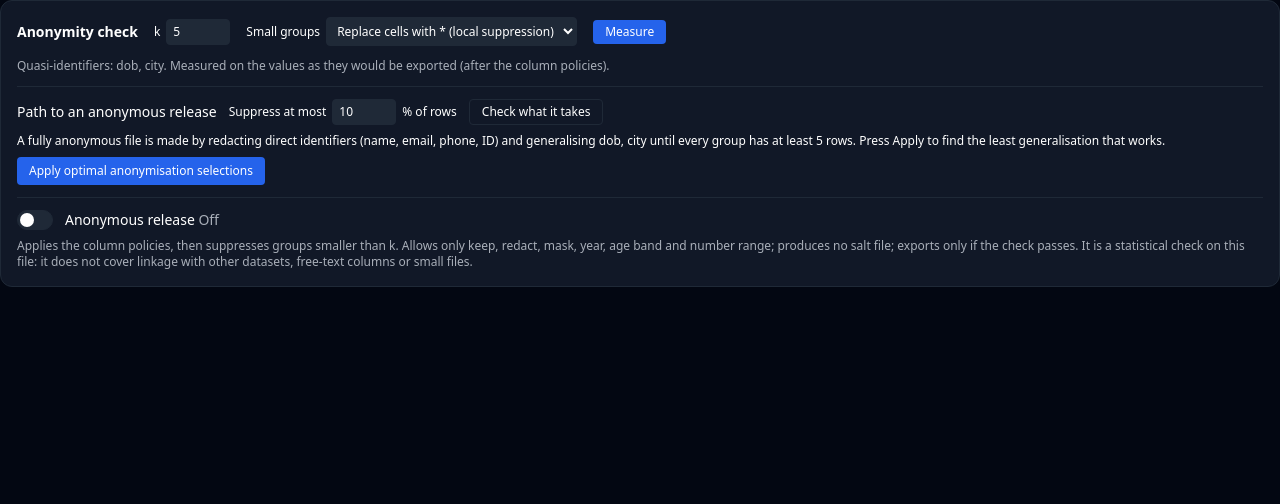
Test: AnonymityPanel › measures the quasi-identifier columns and shows the core results
Check: the text "Quasi-identifiers: dob, city" is shown, box [17,57,610,74]
Click the button "Measure": (630, 32) [593,20,666,44]
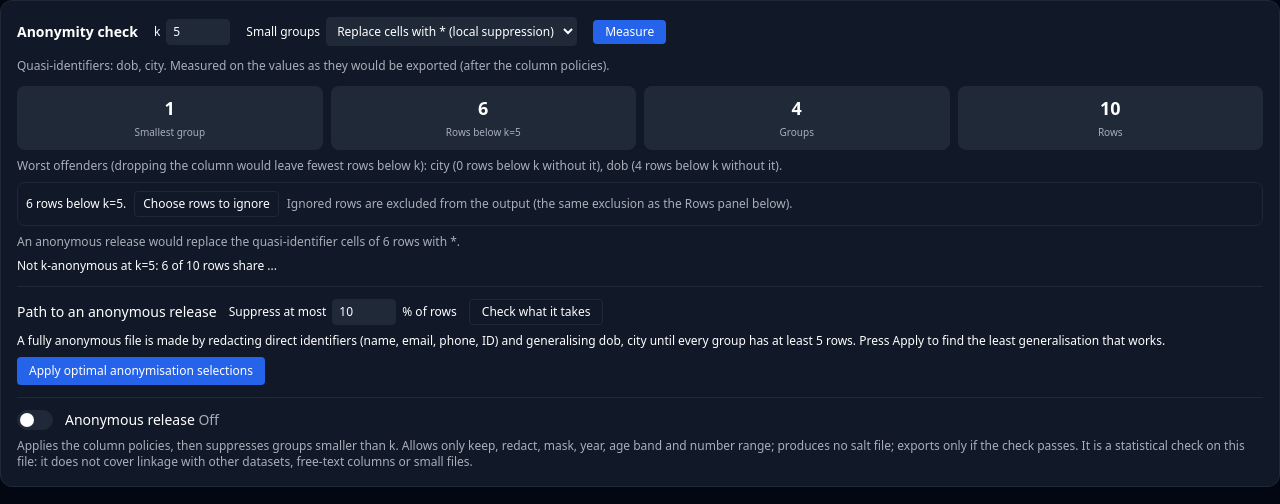
Check: the element named "Anonymity result" is shown, box [17,86,1263,274]
Check: the element named "Anonymity result" shows "city (0 rows below k without it), dob (4 rows", box [430,157,779,174]
Check: the element named "Anonymity result" shows "Not k-anonymous at k=5: 6 of 10 rows share ...", box [17,257,277,274]
